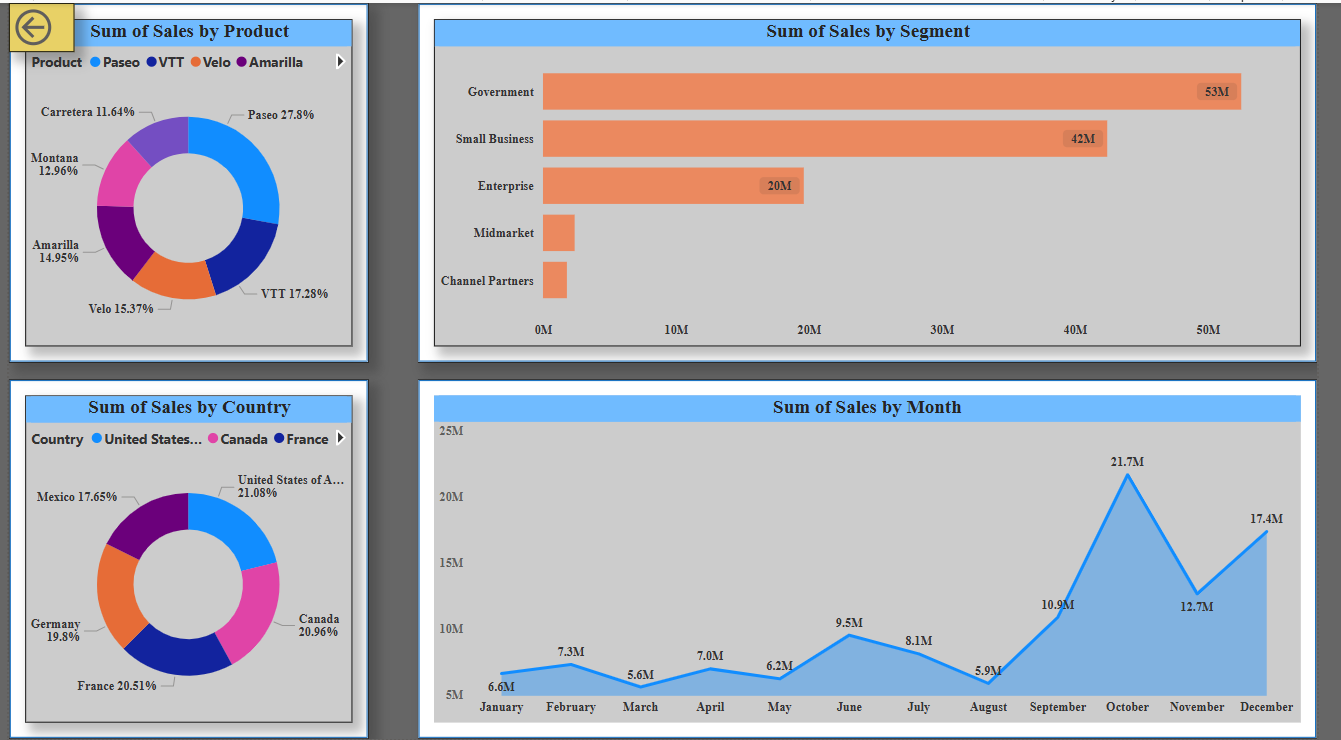

The dashboard page shown, as its layout file describes it:
{"tool":"powerbi","page":{"name":"Revenue","canvas":[1280,720],"ordinal":1},"visuals":[{"type":"shape","box":[400,0,880,352],"z":0},{"type":"shape","box":[400,368,880,352],"z":1000},{"type":"shape","box":[0,368,352,352],"z":2000},{"type":"shape","box":[0,0,352,352],"z":3000},{"type":"donutChart","fields":{"Category":["financials.Country"],"Y":["Sum(financials. Sales)"]},"box":[16,384,320,320],"z":4000},{"type":"donutChart","fields":{"Category":["financials.Product"],"Y":["Sum(financials. Sales)"]},"box":[16,16,320,320],"z":5000},{"type":"lineChart","fields":{"Category":["financials.Date.Variation.Date Hierarchy.Year","financials.Date.Variation.Date Hierarchy.Quarter","financials.Date.Variation.Date Hierarchy.Month","financials.Date.Variation.Date Hierarchy.Day"],"Y":["Sum(financials. Sales)"]},"box":[416,384,848,320],"z":6000},{"type":"barChart","fields":{"Category":["financials.Segment"],"Y":["Sum(financials. Sales)"]},"box":[416,16,848,320],"z":7000},{"type":"actionButton","box":[0,0,64,48],"z":9000}]}

Visuals, with their boxes in screenshot pixels (x1, y1, x2, y2), scaled from the page's 1280x720 canvas onto the 1341x740 screenshot:
shape: [x1=419, y1=0, x2=1340, y2=362]
shape: [x1=419, y1=378, x2=1340, y2=739]
shape: [x1=0, y1=378, x2=369, y2=739]
shape: [x1=0, y1=0, x2=369, y2=362]
donutChart - financials.Country x Sum(financials. Sales): [x1=17, y1=395, x2=352, y2=724]
donutChart - financials.Product x Sum(financials. Sales): [x1=17, y1=16, x2=352, y2=345]
lineChart - financials.Date.Variation.Date Hierarchy.Year x financials.Date.Variation.Date Hierarchy.Quarter: [x1=436, y1=395, x2=1324, y2=724]
barChart - financials.Segment x Sum(financials. Sales): [x1=436, y1=16, x2=1324, y2=345]
actionButton: [x1=0, y1=0, x2=67, y2=49]
